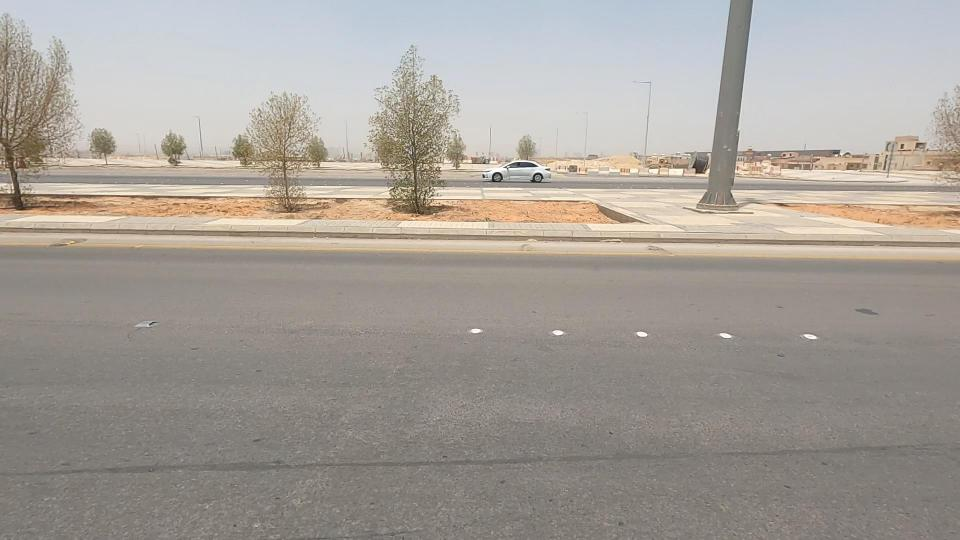CLUTTER_SIDEWALK: (740, 180, 960, 245), (459, 178, 654, 242), (59, 187, 264, 230)
